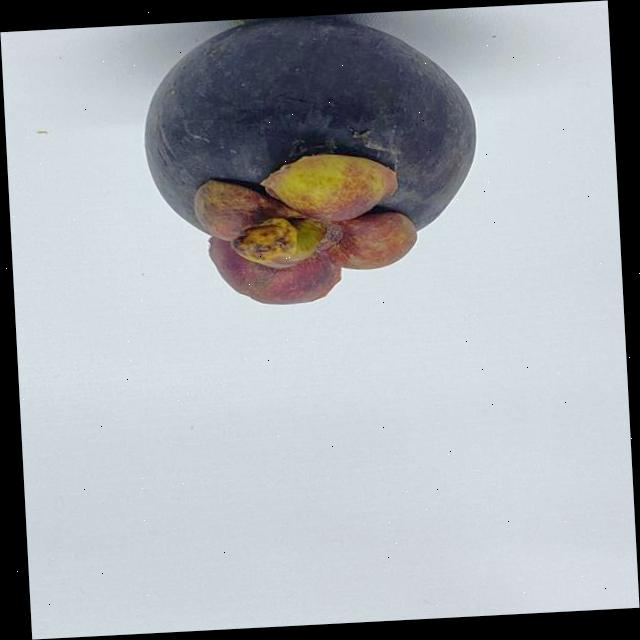mangosteen: (126, 7, 502, 335)
